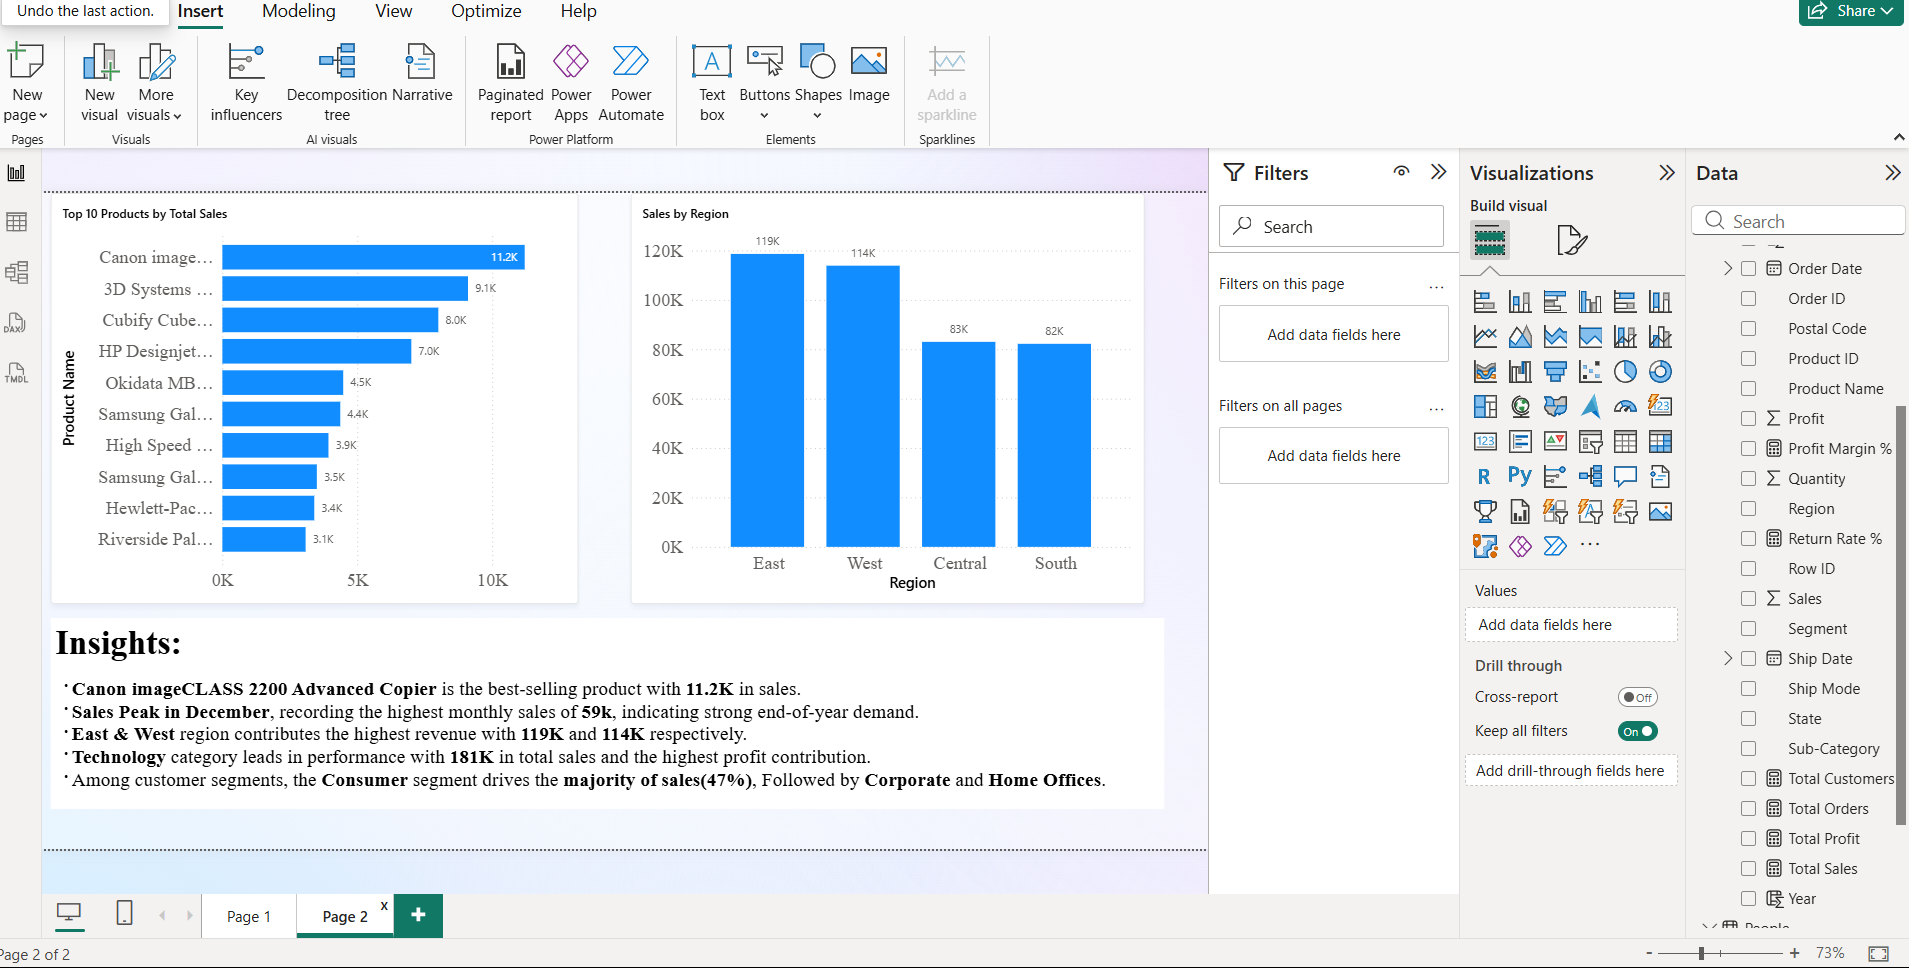

The dashboard page shown, as its layout file describes it:
{"tool":"powerbi","page":{"name":"Page 2","canvas":[1280,720],"ordinal":1},"visuals":[{"type":"clusteredBarChart","title":"Top 10 Products by Total Sales","fields":{"Category":["Orders.Product Name"],"Y":["Orders.Total Sales"]},"box":[9.6,0,579.1,451.5],"z":0},{"type":"clusteredColumnChart","title":"Sales by Region","fields":{"Category":["Orders.Region"],"Y":["Orders.Total Sales"]},"box":[646.3,0,564,451.5],"z":1},{"type":"textbox","box":[9.6,489.9,1222.6,186.6],"z":2}]}

Visuals, with their boxes on the page's 1280x720 design canvas (x1, y1, x2, y2). These are canvas units, not pixel positions in the 1909x968 screenshot, which may show the page scaled, cropped or inside an application window:
"Top 10 Products by Total Sales" clusteredBarChart: bbox(10, 0, 589, 452)
"Sales by Region" clusteredColumnChart: bbox(646, 0, 1210, 452)
textbox: bbox(10, 490, 1232, 676)
